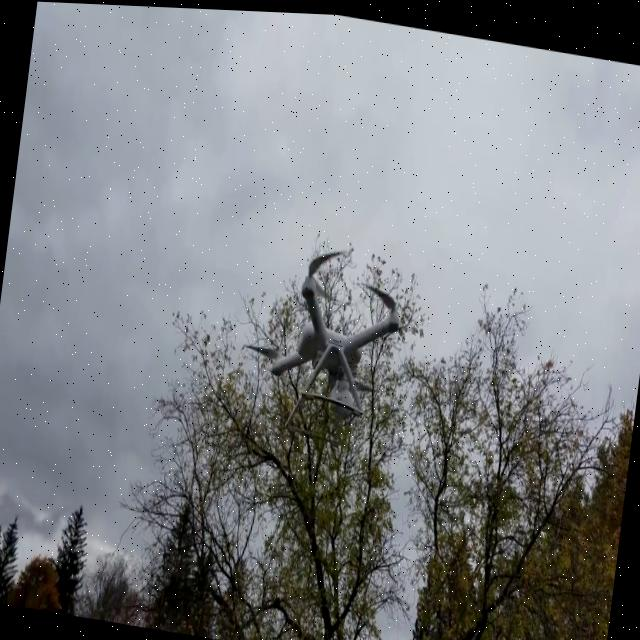drone: (240, 242, 420, 435)
